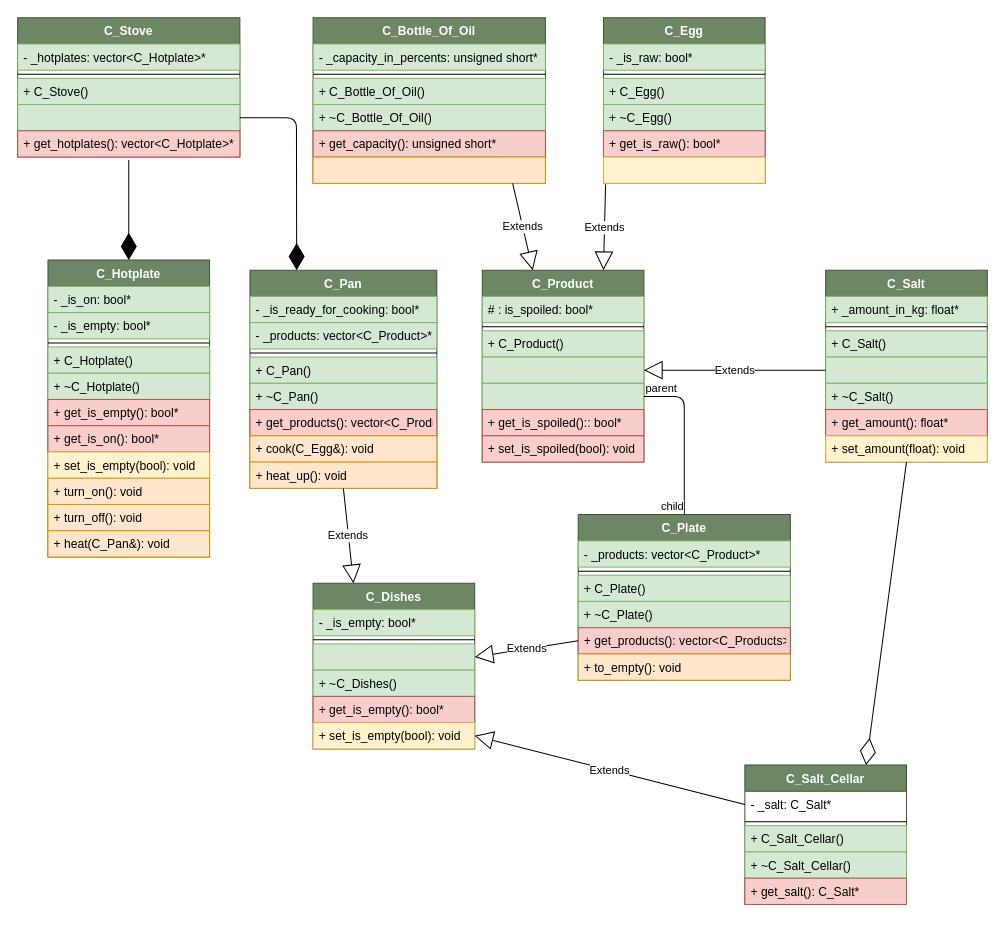
This 1005x925 diagram has some shape labels left out. The shapes that lost their labels are listed below. From the top down, each one's box as (x1, y1, x2, y2) in pixels, then its label:
(17, 104, 240, 131): + ~C_Stove()
(312, 156, 545, 183): + pour(): void
(602, 156, 765, 183): + set_is_raw(bool): void
(481, 356, 644, 383): + C_Product(bool)
(825, 356, 987, 383): + C_Salt(float)
(481, 382, 644, 410): + ~C_Product()
(312, 643, 475, 670): + C_Dishes()
